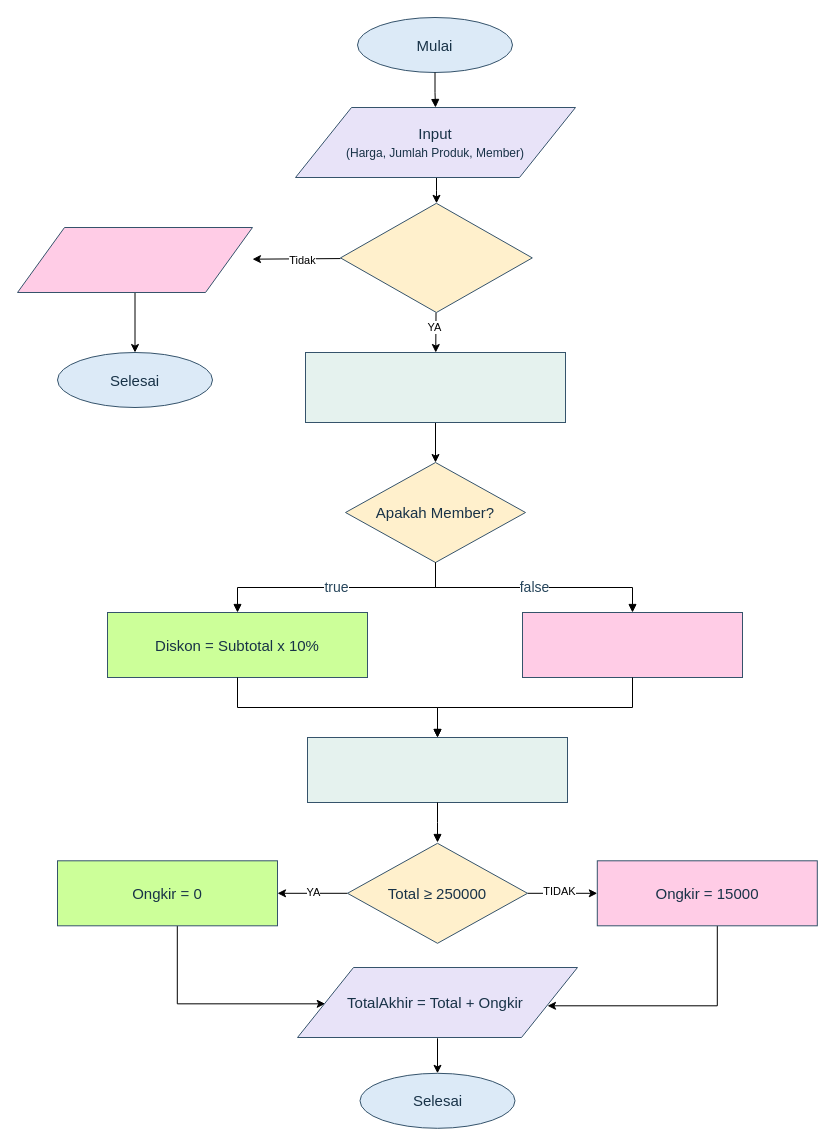
Image size: 835x1146. Some labels were removed from this diagram. The shapes that lost their labels are listed below. From the top down, each one's centre as x and y in pixels, then its label:
pixel 134 259: Pesan "Input Tidak Valid"
pixel 436 257: Input valid? (Harga dan jumlah produk bilangan bulat dan positf)
pixel 435 387: Subtotal= Harga x Jumlah Produk
pixel 632 645: Diskon = 0
pixel 437 769: Total = Subtotal - Diskon
